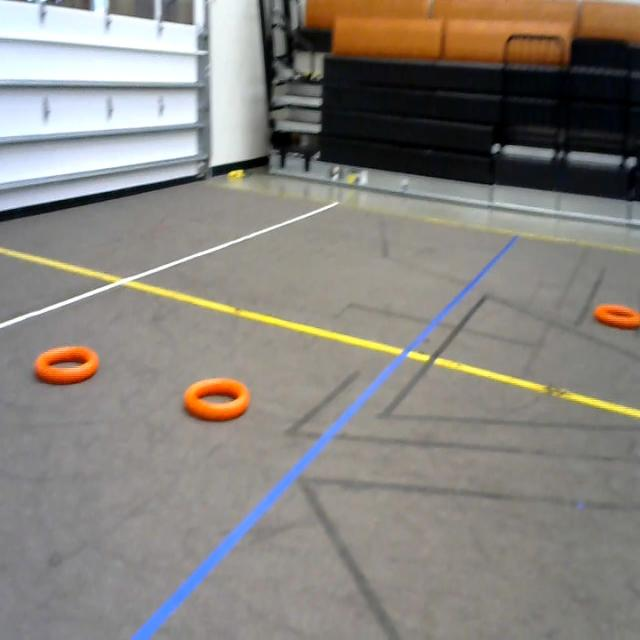note: (24, 330, 123, 398), (175, 372, 274, 431), (585, 289, 640, 346)
